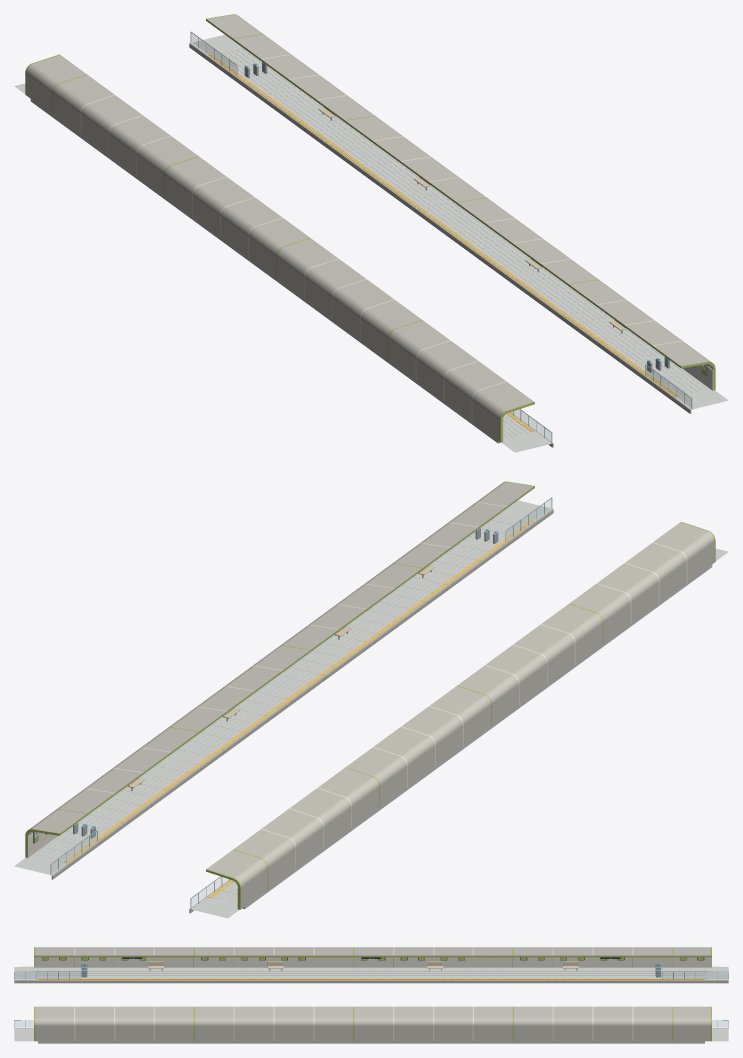
File: station-A7.glb
3 renders of one model, top to bottom at view 1: azimuth 30°, elevation 25°; view 2: azimuth 150°, elevation 25°; view 3: azimuth 270°, elevation 25°, orthographic. The views are drawn at different scales.
Parts seen in each view (by area): view 1: A7_platform_-1_roof, A7_platform_1_tile, A7_platform_1_roof, A7_platform_1_station_kerb, A7_platform_1_yellow, A7_platform_-1_concrete, A7_platform_-1_cladding, A7_platform_-1_tile, A7_platform_1_cladding, A7_platform_-1_accent; view 2: A7_platform_-1_roof, A7_platform_1_tile, A7_platform_1_roof, A7_platform_1_station_kerb, A7_platform_1_yellow, A7_platform_-1_concrete, A7_platform_-1_cladding, A7_platform_-1_tile, A7_platform_1_cladding, A7_platform_-1_accent; view 3: A7_platform_1_roof, A7_platform_-1_tile, A7_platform_-1_roof, A7_platform_-1_cladding, A7_platform_-1_station_kerb, A7_platform_1_concrete, A7_platform_-1_yellow, A7_platform_1_cladding, A7_platform_-1_accent, A7_platform_-1_sand, A7_platform_1_tile, A7_platform_-1_dark (+5 smaller).
Part boxes in pixels (bbox=[...]): A7_platform_-1_roof: bbox=[26, 55, 533, 441]; A7_platform_1_tile: bbox=[191, 34, 728, 409]; A7_platform_1_roof: bbox=[206, 14, 712, 368]; A7_platform_1_station_kerb: bbox=[189, 43, 691, 413]; A7_platform_1_yellow: bbox=[208, 54, 705, 396]; A7_platform_-1_concrete: bbox=[30, 99, 500, 443]; A7_platform_-1_cladding: bbox=[80, 94, 506, 441]; A7_platform_-1_tile: bbox=[14, 83, 551, 452]; A7_platform_1_cladding: bbox=[261, 54, 713, 390]; A7_platform_-1_accent: bbox=[25, 54, 534, 442]; A7_platform_-1_roof: bbox=[207, 522, 714, 908]; A7_platform_1_tile: bbox=[14, 500, 551, 875]; A7_platform_1_roof: bbox=[28, 482, 533, 836]; A7_platform_1_station_kerb: bbox=[51, 508, 553, 879]; A7_platform_1_yellow: bbox=[35, 519, 534, 862]; A7_platform_-1_concrete: bbox=[242, 565, 712, 909]; A7_platform_-1_cladding: bbox=[237, 542, 687, 908]; A7_platform_-1_tile: bbox=[191, 548, 728, 918]; A7_platform_1_cladding: bbox=[27, 502, 506, 857]; A7_platform_-1_accent: bbox=[206, 521, 715, 909]; A7_platform_1_roof: bbox=[35, 1006, 710, 1041]; A7_platform_-1_tile: bbox=[14, 966, 728, 979]; A7_platform_-1_roof: bbox=[35, 947, 710, 966]; A7_platform_-1_cladding: bbox=[34, 947, 711, 967]; A7_platform_-1_station_kerb: bbox=[14, 979, 728, 983]; A7_platform_1_concrete: bbox=[38, 1041, 704, 1043]; A7_platform_-1_yellow: bbox=[38, 978, 704, 979]; A7_platform_1_cladding: bbox=[74, 1006, 633, 1041]; A7_platform_-1_accent: bbox=[34, 947, 711, 966]; A7_platform_-1_sand: bbox=[148, 961, 578, 968]; A7_platform_1_tile: bbox=[14, 1028, 728, 1041]; A7_platform_-1_dark: bbox=[42, 957, 704, 960].
Bounding box in the file's own units: 22.2 × 3.57 × 89.65.
